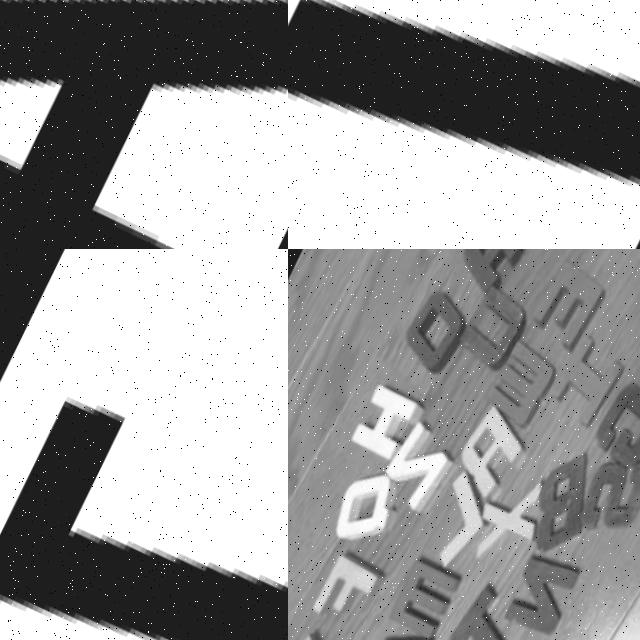A: (0, 0, 288, 249), (452, 249, 533, 294)
B: (513, 444, 608, 562)
E: (527, 260, 611, 352)
F: (300, 549, 379, 638)
G: (587, 368, 640, 475)
H: (341, 375, 430, 475)
I: (541, 332, 632, 431)
J: (0, 249, 288, 640)
L: (288, 0, 640, 249), (414, 472, 499, 572)
M: (383, 563, 458, 640)
N: (498, 556, 579, 640)
O: (394, 298, 466, 375)
Q: (320, 464, 403, 563)
R: (450, 410, 532, 505)
S: (566, 456, 640, 556)
T: (440, 586, 519, 640)
U: (455, 278, 533, 368)
W: (480, 341, 565, 436)
X: (459, 481, 548, 582)
Z: (371, 417, 459, 520)
